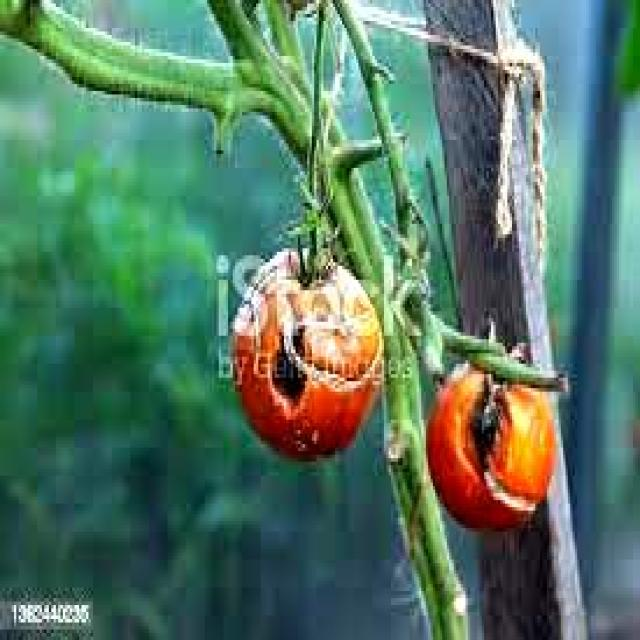Rotten_Tomato: (228, 241, 384, 458), (416, 346, 561, 528)
